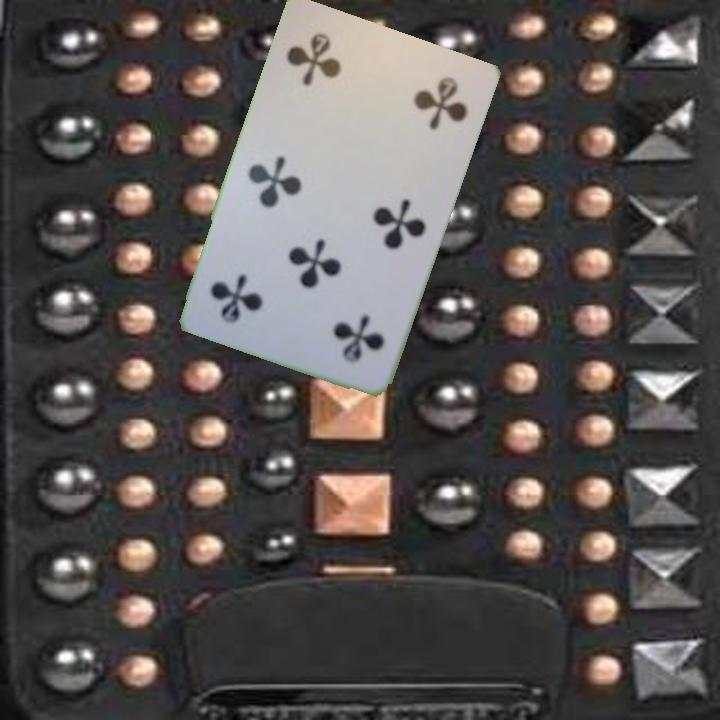c_7.png: (281, 268, 403, 380), (271, 14, 392, 126)
